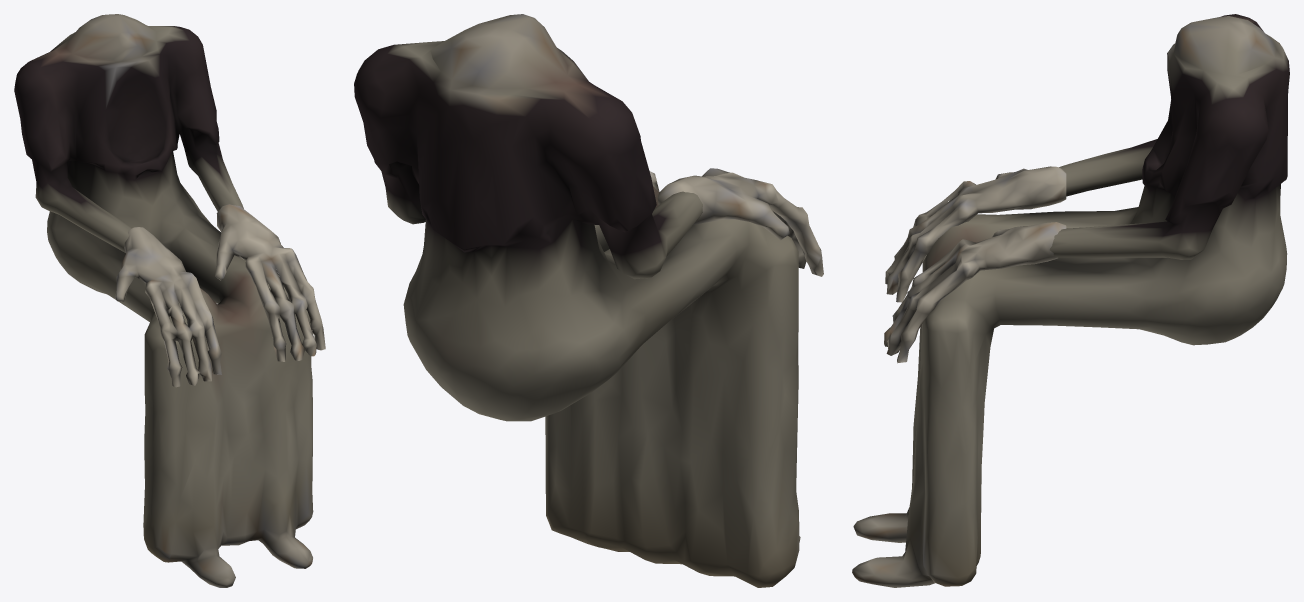
The model's file is widow_seat.glb.
3 renders of one model, left to right at view 1: azimuth 30°, elevation 25°; view 2: azimuth 150°, elevation 25°; view 3: azimuth 270°, elevation 25°, orthographic. The views are drawn at different scales.
Visible parts, largest first — view 1: widow_seat; view 2: widow_seat; view 3: widow_seat.
Boxes of the visible parts, x1,y1,x2,y2 form: widow_seat: (14,14,325,587); widow_seat: (354,14,823,587); widow_seat: (852,14,1289,587).
Bounding box in the file's own units: 0.4721 × 1.09 × 0.8.
